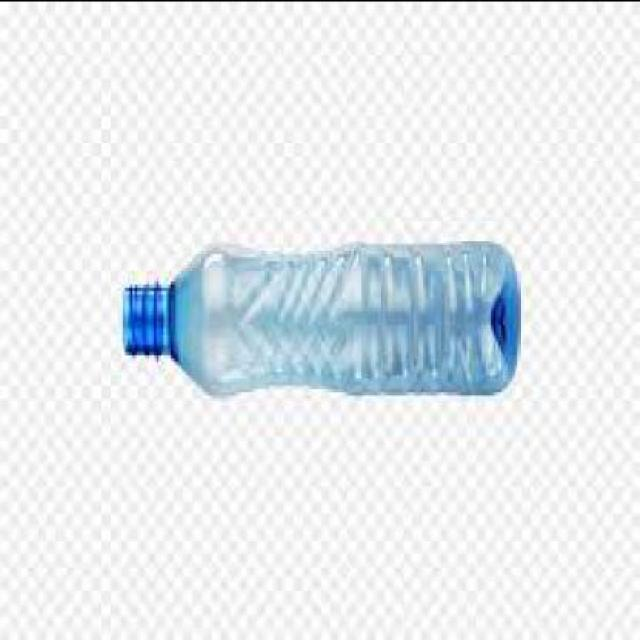PLASTIC: (123, 232, 517, 391)
